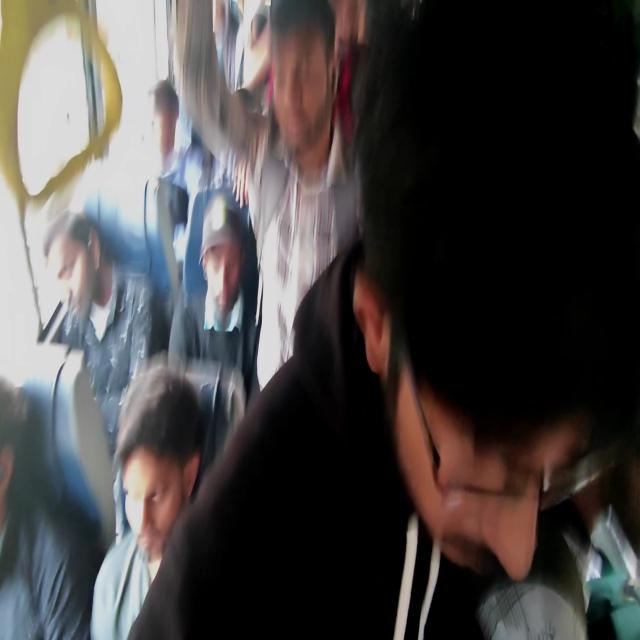person: (369, 29, 611, 562), (18, 220, 106, 435), (136, 345, 194, 510), (0, 396, 51, 570), (200, 204, 254, 317), (272, 7, 326, 110), (142, 81, 203, 169), (217, 91, 261, 200), (248, 12, 275, 81), (212, 0, 227, 40)
